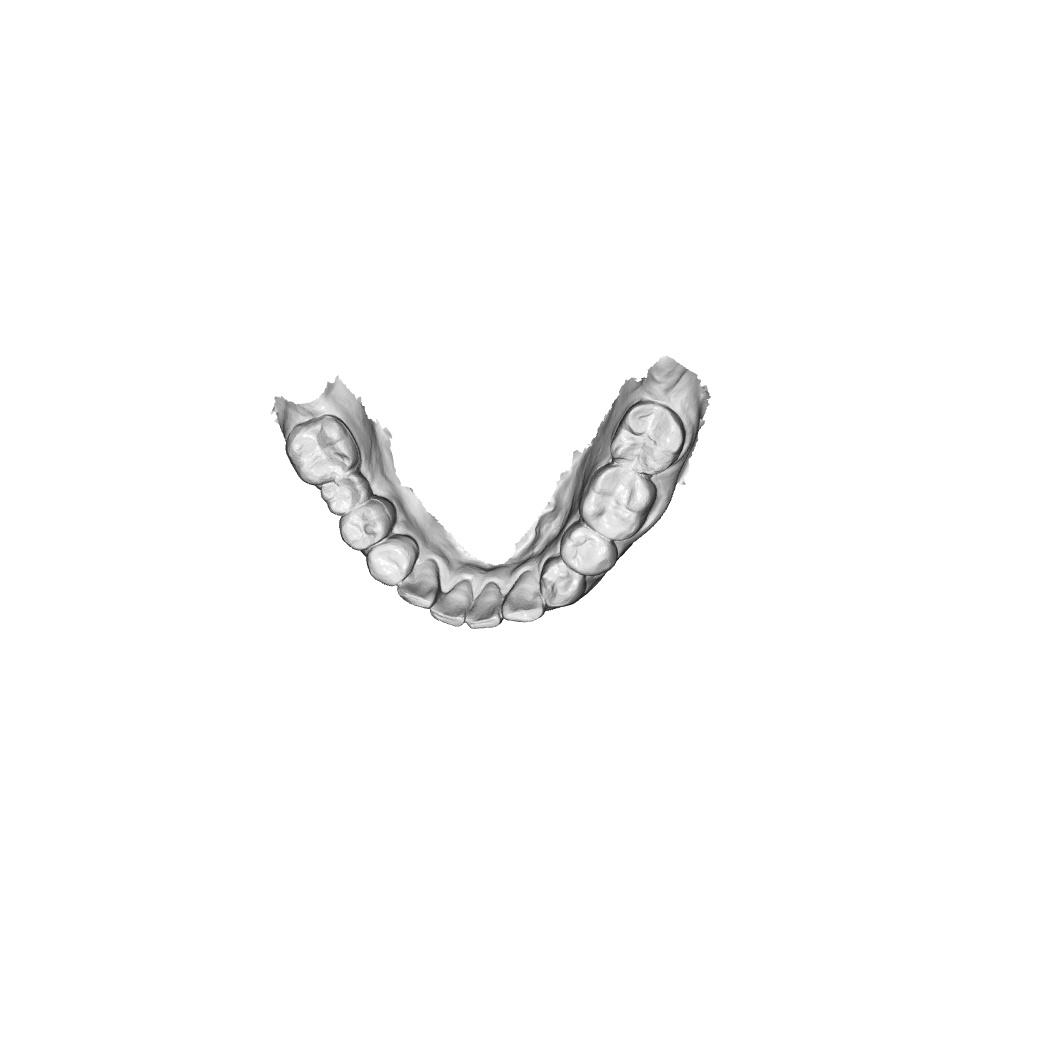canine: (501, 569, 545, 623), (397, 558, 441, 610)
incisor: (429, 578, 471, 628), (465, 581, 503, 630)
molar: (577, 463, 659, 542), (608, 400, 686, 476), (284, 413, 362, 487), (320, 471, 372, 517)
premolar: (559, 520, 619, 578), (339, 496, 398, 551), (366, 533, 421, 587), (540, 555, 587, 609)
